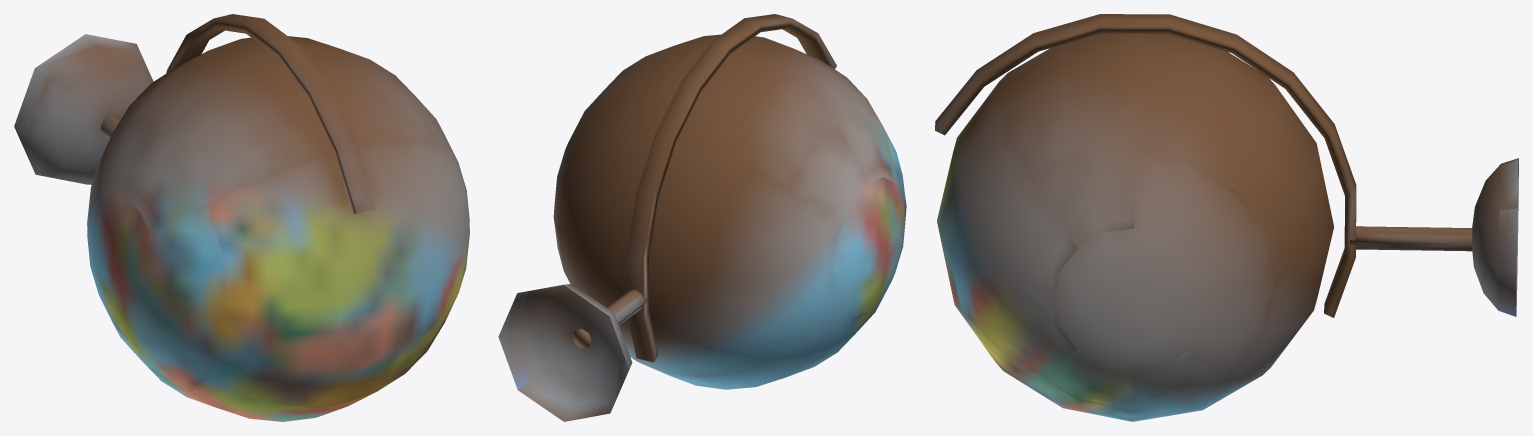
File: Globe.obj
3 views of the same model, side by side, from view 1: azimuth 30°, elevation 25°; view 2: azimuth 150°, elevation 25°; view 3: azimuth 270°, elevation 25° (orthographic). The views are drawn at different scales.
Visible parts, largest first — view 1: polySurface146.100, polySurface146.157, polySurface146.121; view 2: polySurface146.100, polySurface146.157, polySurface146.121, polySurface146.049; view 3: polySurface146.100, polySurface146.121, polySurface146.157, polySurface146.049.
Part boxes in pixels (<box>): polySurface146.100: <box>87,36,469,421</box>; polySurface146.157: <box>14,34,153,184</box>; polySurface146.121: <box>166,14,376,213</box>; polySurface146.100: <box>553,34,906,389</box>; polySurface146.157: <box>498,284,632,421</box>; polySurface146.121: <box>626,14,836,362</box>; polySurface146.049: <box>572,290,647,348</box>; polySurface146.100: <box>937,33,1333,421</box>; polySurface146.121: <box>935,14,1356,317</box>; polySurface146.157: <box>1472,158,1518,316</box>; polySurface146.049: <box>1350,226,1472,251</box>.
Bounding box in the file's own units: 1.81 × 1.95 × 2.7.
Materials: 1 (1 with a texture image).
